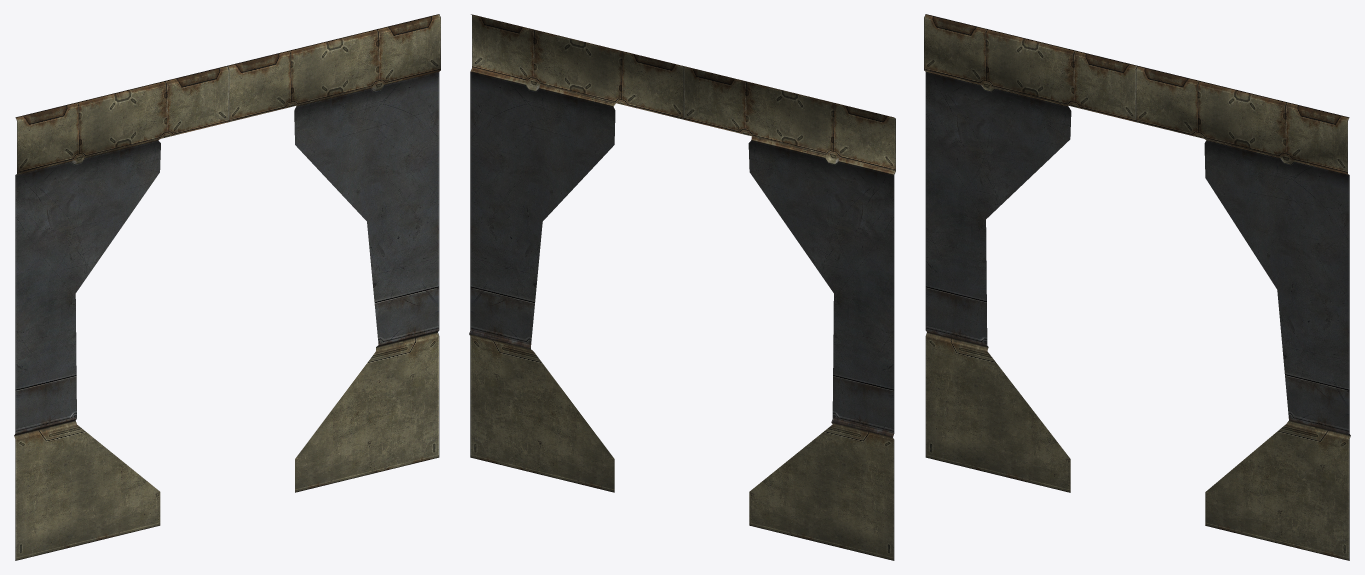
File: datasite_flat_doorway_airlock.dae
The picture shows the model from 3 angles, left to right: view 1: azimuth 30°, elevation 25°; view 2: azimuth 150°, elevation 25°; view 3: azimuth 330°, elevation 25°; orthographic projection.
Visible parts, largest first — view 1: polySurface134; view 2: polySurface134; view 3: polySurface134.
Part boxes in pixels (x1,y1,x2,y2): polySurface134: (14,14,440,560); polySurface134: (469,14,895,560); polySurface134: (924,14,1350,560).
Size of the model in its own units: 4 by 4 by 0.0483.
